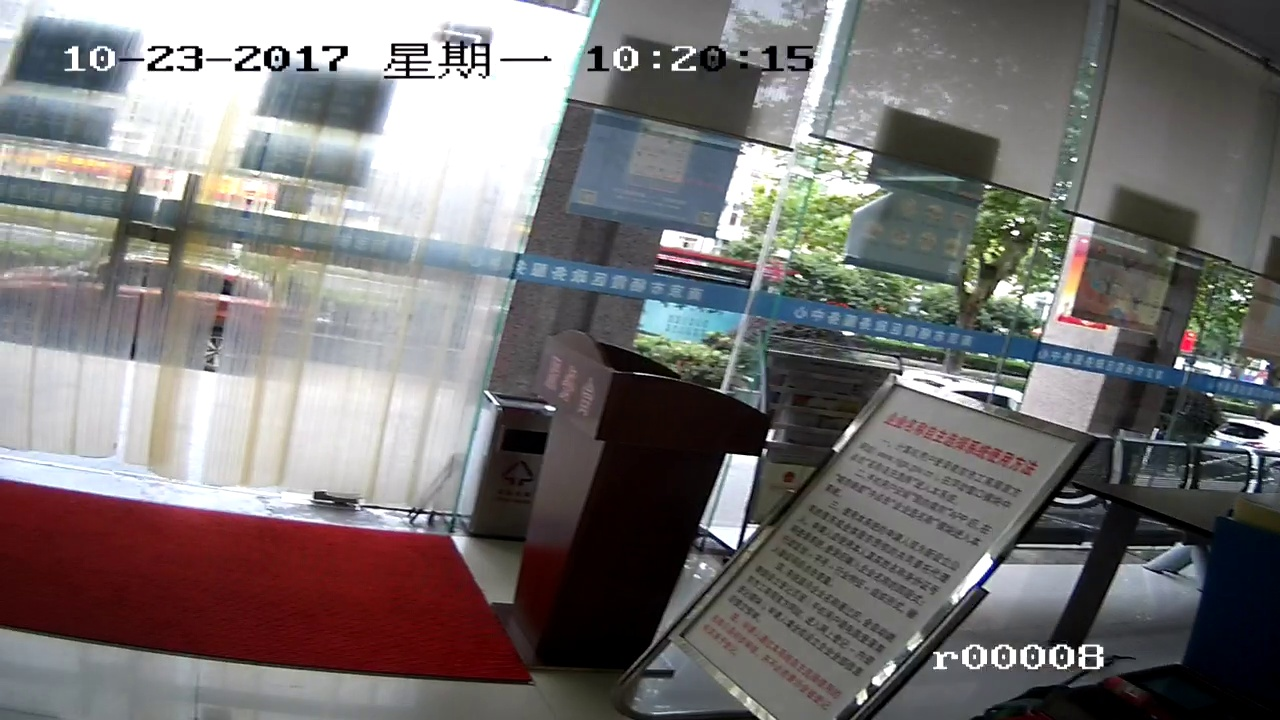billboard: (761, 376, 1067, 704)
desk: (549, 335, 654, 663)
